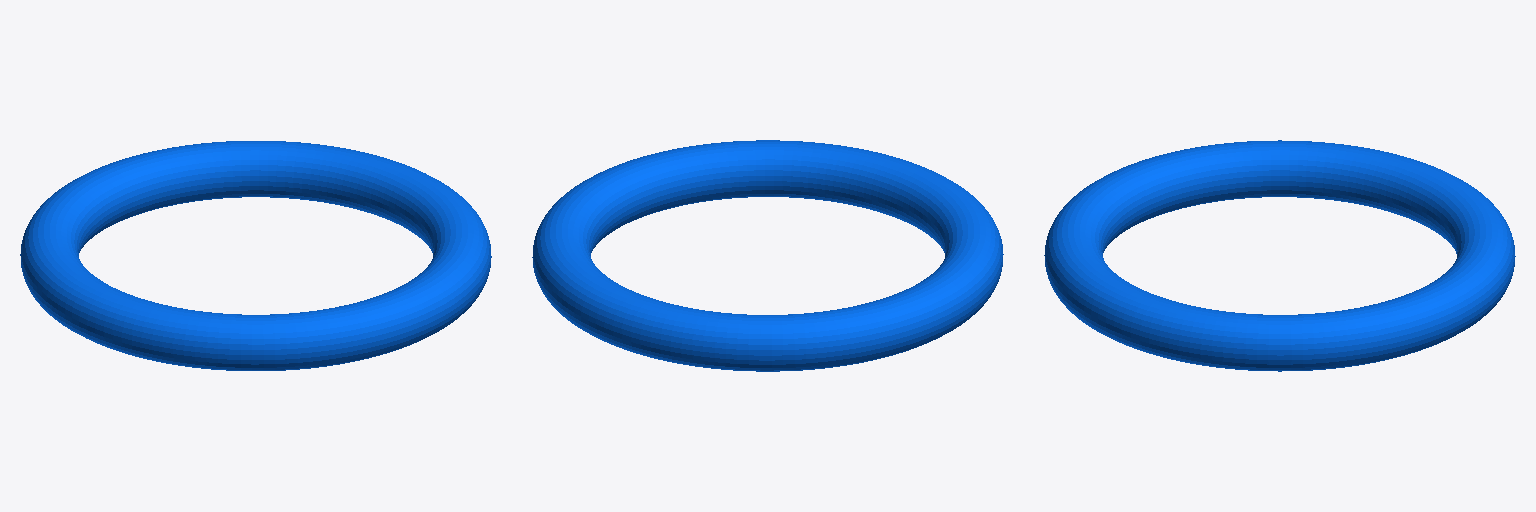
robot.urdf — ring:
<?xml version="0.0" ?>
<robot name="ring">
    <material name="blue">
        <color rgba="0.078431 0.494117 0.984313 1"/>
    </material>

    <link name="baseLink">
        <!-- from lego/lego.urdf -->
        <contact>
            <lateral_friction value="1.0"/>
            <rolling_friction value="0.03"/>
            <!-- <spinning_friction value="0.03"/> -->
            <stiffness value="30000"/>
            <damping value="1000"/>
            <contact_cfm value="0.0"/>
            <contact_erp value="1.0"/>
        </contact>
        <inertial>
            <origin rpy="0 0 0" xyz="0 0 0"/>
            <mass value="0.01"/>
            <inertia ixx="1" ixy="0" ixz="0" iyy="1" iyz="0" izz="1"/>
        </inertial>
        <visual>
            <origin rpy="1.57 0 0" xyz="0 0 0"/>
            <geometry>
                <!--        radius: 10mm, depth: 14.5mm-->
                <mesh filename="meshes/ring.obj" scale="1 1 1"/>
                <!--        <box size="0.002 0.002 0.002"/>-->
            </geometry>
            <material name="blue"/>
        </visual>
        <collision >
            <origin rpy="1.57 0 0" xyz="0 0 0"/>
            <geometry>
                <mesh filename="meshes/ring_vhacd.obj" scale="1 1 1"/>
                <!--        <box size="0.002 0.002 0.002"/>-->
            </geometry>
        </collision>
    </link>

    <!-- for testing get linkstate -->
    <link name="waypoint_0">
        <!--    origin-->
        <inertial>
            <origin rpy="0 0 0" xyz="0 0 0"/>
            <mass value=".0"/>
            <inertia ixx="0." ixy="0" ixz="0" iyy="0." iyz="0" izz="0."/>
        </inertial>
    </link>

    <joint name="waypoint_joint_0" type="fixed">
        <parent link="baseLink"/>
        <child link="waypoint_0"/>
        <origin rpy="0 0 0" xyz="0 0 0"/>
    </joint>

    <link name="waypoint_1">
        <!--    middle-->
        <inertial>
            <origin rpy="0 0 0" xyz="0 0 0"/>
            <mass value=".0"/>
            <inertia ixx="0." ixy="0" ixz="0" iyy="0." iyz="0" izz="0."/>
        </inertial>
        <!--    <visual>-->
        <!--      <origin rpy="0 0 0" xyz="0 0 0"/>-->
        <!--      <geometry>-->
        <!--        <box size="0.005 0.005 0.005"/>-->
        <!--      </geometry>-->
        <!--      <material name="grey"/>-->
        <!--    </visual>-->
    </link>

    <joint name="waypoint_joint_1" type="fixed">
        <parent link="baseLink"/>
        <child link="waypoint_1"/>
        <!--    (-R, 0, 0)-->
        <origin rpy="0 0 0" xyz="-1.02 0 0"/>
    </joint>

    <link name="waypoint_2">
        <!--    left-->
        <inertial>
            <origin rpy="0 0 0" xyz="0 0 0"/>
            <mass value=".0"/>
            <inertia ixx="0." ixy="0" ixz="0" iyy="0." iyz="0" izz="0."/>
        </inertial>
    </link>

    <joint name="waypoint_joint_2" type="fixed">
        <parent link="baseLink"/>
        <child link="waypoint_2"/>
        <!--    (-sqrt(2)R/2, -sqrt(2)R/2, 0)-->
        <origin rpy="0 0 0.785398" xyz="-0.0141421 -0.0141421 0"/>
    </joint>

    <link name="waypoint_3">
        <!--    right-->
        <inertial>
            <origin rpy="0 0 0" xyz="0 0 0"/>
            <mass value=".0"/>
            <inertia ixx="0." ixy="0" ixz="0" iyy="0." iyz="0" izz="0."/>
        </inertial>
    </link>

    <joint name="waypoint_joint_3" type="fixed">
        <parent link="baseLink"/>
        <child link="waypoint_3"/>
        <!--    (-sqrt(2)R/2, sqrt(2)R/2, 0)-->
        <origin rpy="0 0 -0.785398" xyz="-0.0141421 0.0141421 0"/>
    </joint>

    <link name="waypoint_4">
        <!--    left 60deg-->
        <inertial>
            <origin rpy="0 0 0" xyz="0 0 0"/>
            <mass value=".0"/>
            <inertia ixx="0." ixy="0" ixz="0" iyy="0." iyz="0" izz="0."/>
        </inertial>
    </link>

    <joint name="waypoint_joint_4" type="fixed">
        <parent link="baseLink"/>
        <child link="waypoint_4"/>
        <!--    -cos(60)*R, -sin(60)*R, 0)-->
        <origin rpy="0 0 1.047197" xyz="-0.0100000 -0.0173205 0"/>
    </joint>

    <link name="waypoint_5">
        <!--    right 60deg-->
        <inertial>
            <origin rpy="0 0 0" xyz="0 0 0"/>
            <mass value=".0"/>
            <inertia ixx="0." ixy="0" ixz="0" iyy="0." iyz="0" izz="0."/>
        </inertial>
    </link>

    <joint name="waypoint_joint_5" type="fixed">
        <parent link="baseLink"/>
        <child link="waypoint_5"/>
        <!--    -cos(60)*R, sin(60)*R, 0)-->
        <origin rpy="0 0 -1.047198" xyz="-0.0100000 0.0173205 0"/>
    </joint> 
</robot>

--- Render facts (derived) ---
3 views of the same robot in one strip: view 1: azimuth 30°, elevation 25°; view 2: azimuth 150°, elevation 25°; view 3: azimuth 270°, elevation 25° (orthographic).
Robot: ring — 7 links, 6 joints (6 fixed); root link baseLink; default pose: every joint at zero.
Links seen in each view (by area): view 1: baseLink; view 2: baseLink; view 3: baseLink.
Boxes of the visible links, x1,y1,x2,y2 form: baseLink: [20, 141, 491, 370]; baseLink: [532, 140, 1003, 371]; baseLink: [1044, 140, 1515, 371].
Size in the robot's own frame: 1.93 by 1.93 by 0.2278 metres.
Meshes: 1 distinct files referenced, 1 mesh visuals loaded (1 OBJ).